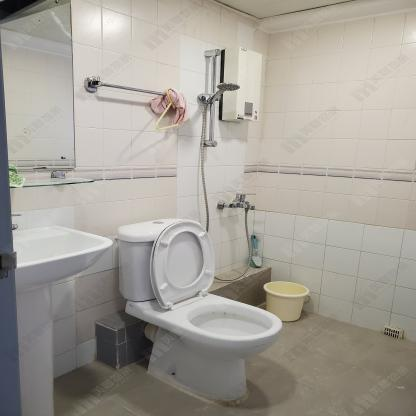Toilet: (115, 219, 284, 402)
Toilet Sink: (14, 223, 115, 288)
Water Heater: (219, 47, 264, 125)
